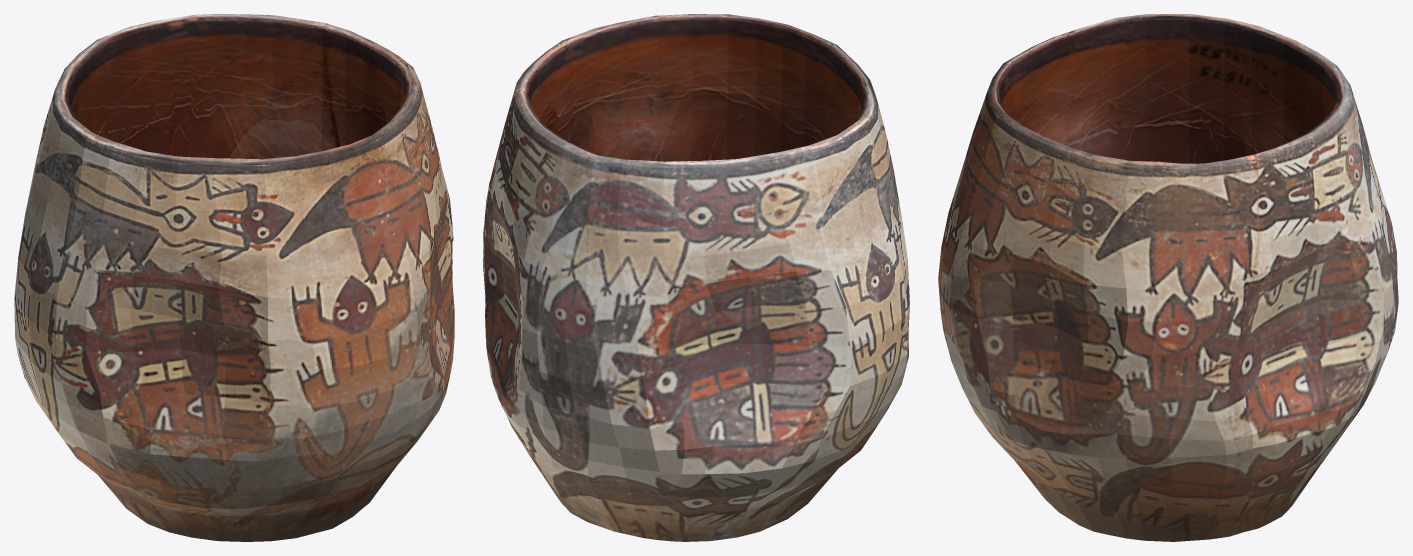
The model's file is objeto_07_nasca.glb.
3 renders of one model, left to right at view 1: azimuth 30°, elevation 25°; view 2: azimuth 150°, elevation 25°; view 3: azimuth 270°, elevation 25°, orthographic. The views are drawn at different scales.
Parts seen in each view (by area): view 1: Box001; view 2: Box001; view 3: Box001.
Part boxes in pixels (box(x1,y1,x2,y2)): Box001: box(14, 14, 454, 541); Box001: box(483, 14, 909, 541); Box001: box(938, 14, 1398, 541).
Bounding box in the file's own units: 0.5593 × 0.541 × 0.5681.
Materials: 1 (1 with a texture image).
